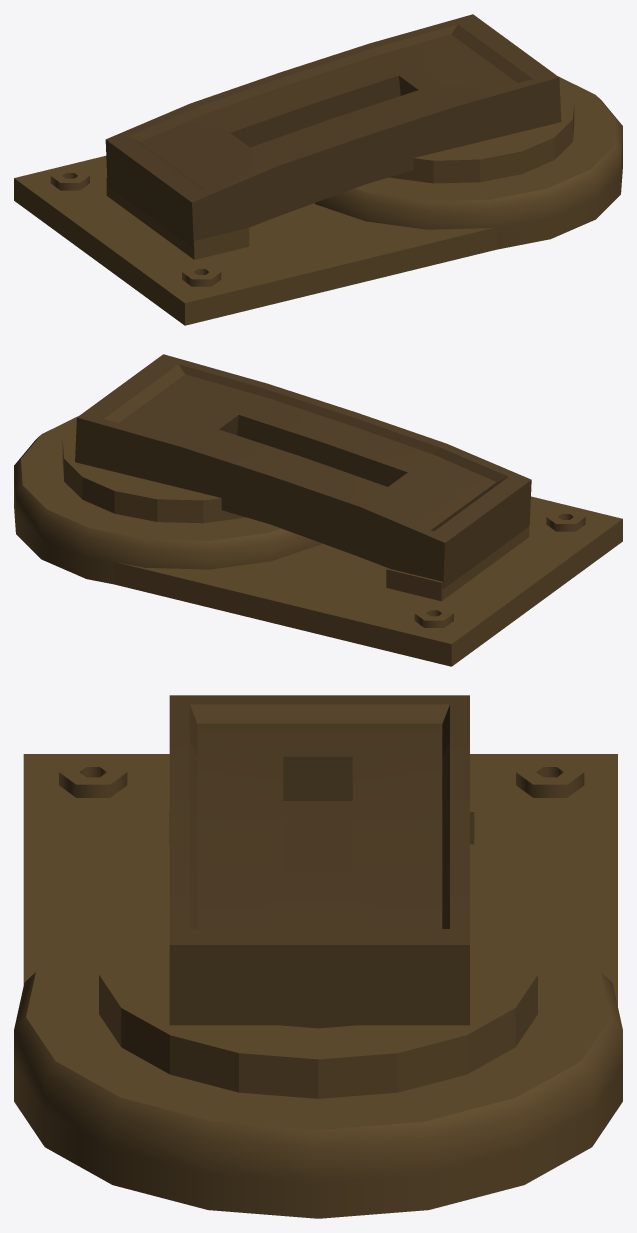
Rendered from TriggerBase.fbx.
The picture shows the model from 3 angles, top to bottom: view 1: azimuth 30°, elevation 25°; view 2: azimuth 150°, elevation 25°; view 3: azimuth 270°, elevation 25°; orthographic projection. The views are drawn at different scales.
Parts seen in each view (by area): view 1: TriggerBase; view 2: TriggerBase; view 3: TriggerBase.
Part boxes in pixels (<box>): TriggerBase: <box>14,14,622,325</box>; TriggerBase: <box>14,354,622,666</box>; TriggerBase: <box>14,695,622,1218</box>.
Size of the model in its own units: 10.25 by 2.27 by 6.2.
